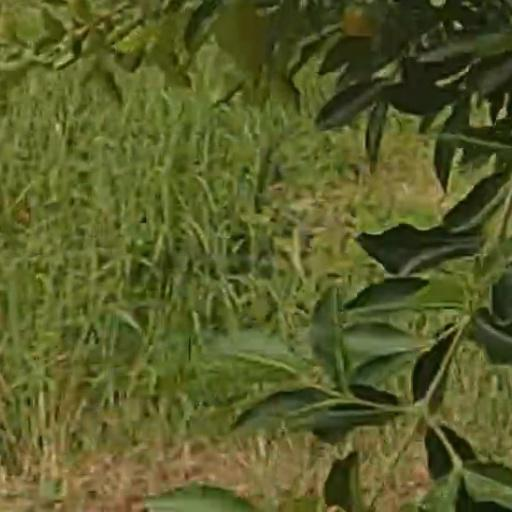acerola_vermelha: (345, 10, 377, 35)
